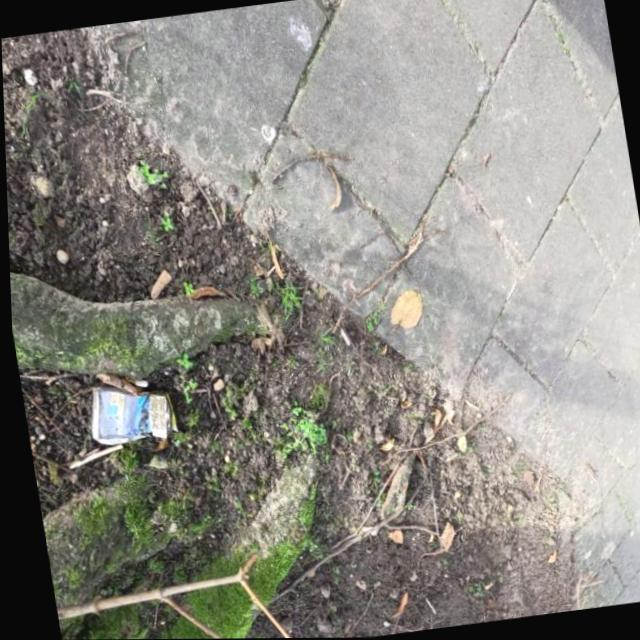Paper: (79, 375, 177, 449)
